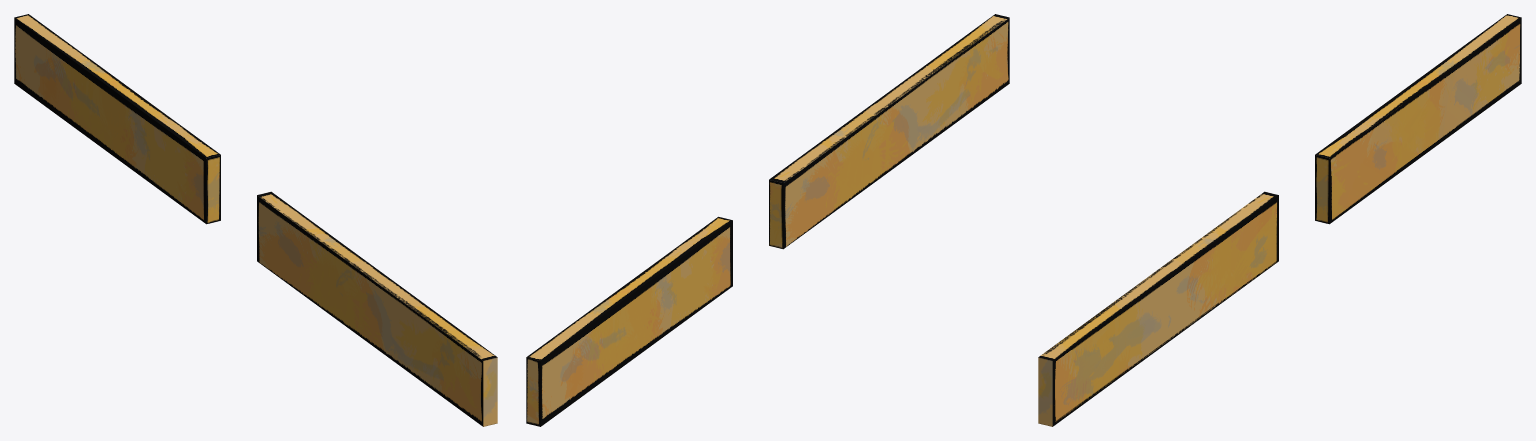
Rendered from 1-Midfloor.fbx.
3 views of the same model, side by side, from view 1: azimuth 30°, elevation 25°; view 2: azimuth 150°, elevation 25°; view 3: azimuth 330°, elevation 25° (orthographic).
Visible parts, largest first — view 1: Cube.012; view 2: Cube.012; view 3: Cube.012.
Boxes of the visible parts, bbox=[...] form: Cube.012: bbox=[14, 14, 497, 426]; Cube.012: bbox=[526, 14, 1009, 426]; Cube.012: bbox=[1038, 14, 1521, 426].
Bounding box in the file's own units: 28.61 × 124 × 1601.
1 material, 1 textured.
